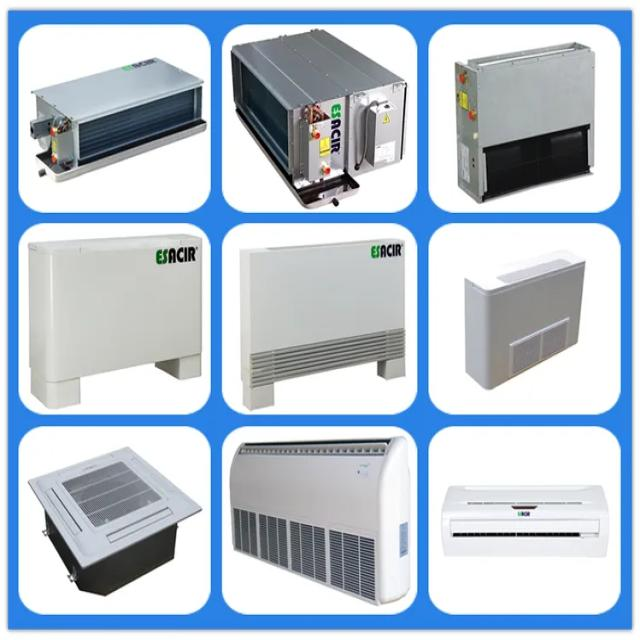appliances: (232, 28, 406, 204), (28, 235, 200, 407), (230, 436, 408, 602), (240, 239, 402, 408), (28, 448, 200, 594), (455, 43, 593, 202), (30, 58, 205, 180), (466, 251, 584, 387), (441, 486, 608, 556)
